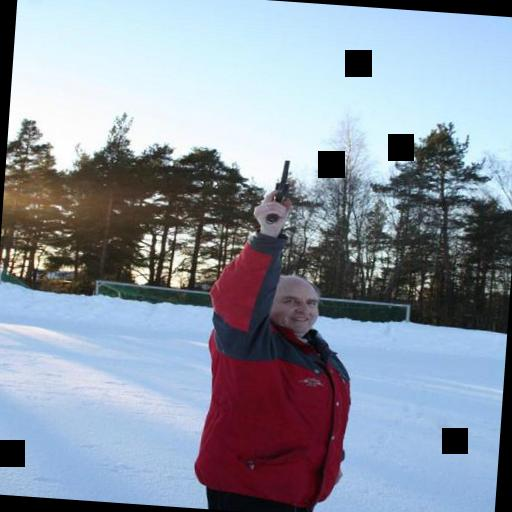Handgun: (251, 155, 306, 228)
